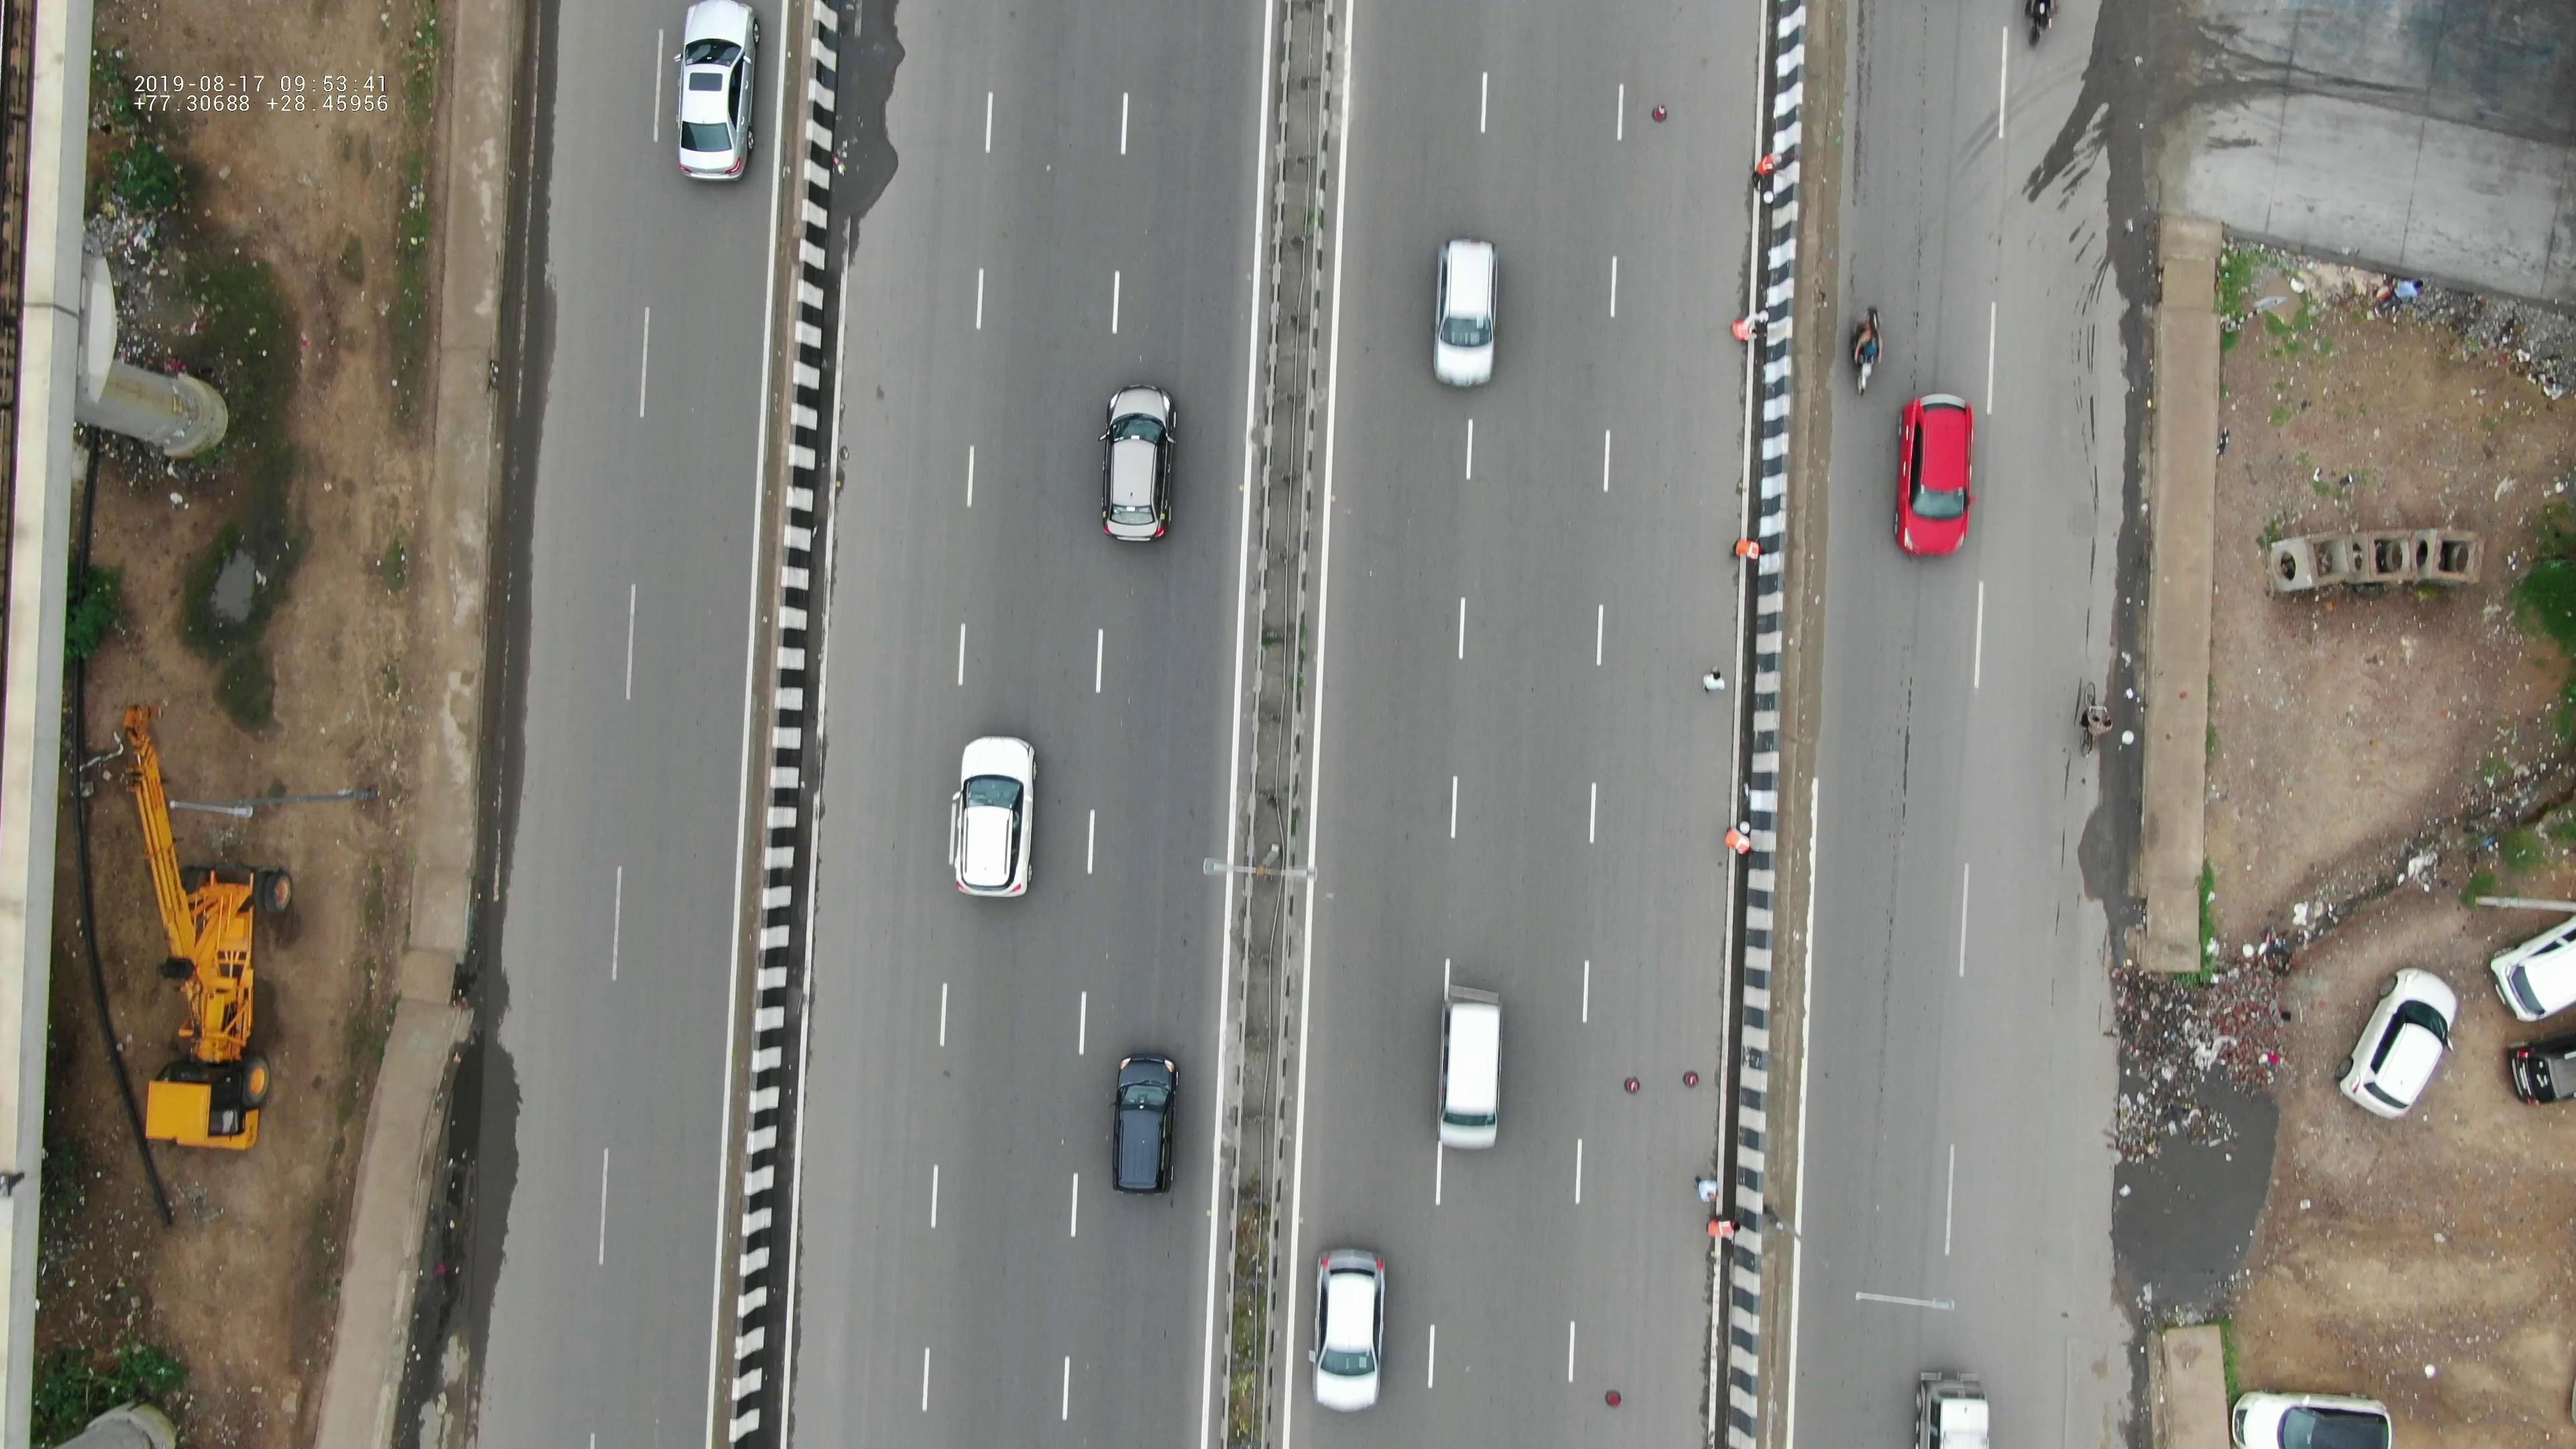Waterlogging: (2100, 964, 2281, 1302)
